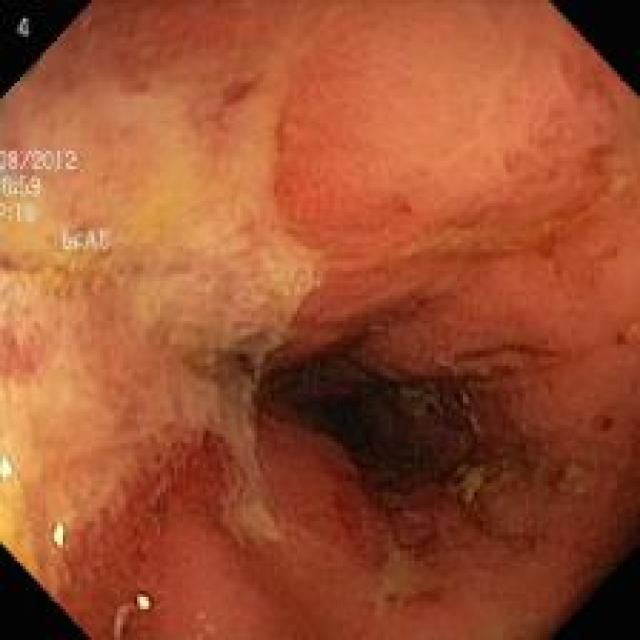ulcerative-colitis-grade-3: (1, 3, 639, 638)
